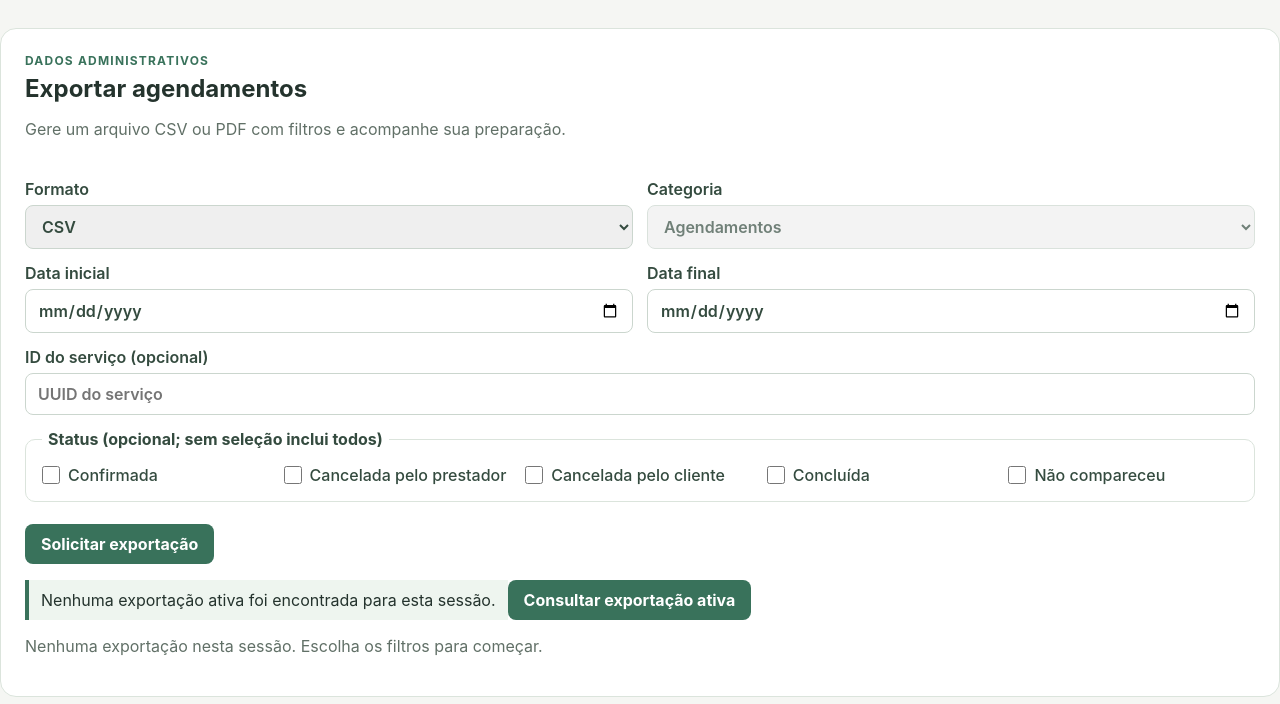
Test: ExportCenter DOM interactions › preserves the original intent after transport failure and retries with the same key
This screenshot has width=1280, height=704.
Type "2026-10-01" into the date field labelled "Data inicial" at (329, 311), box [25,289,633,333]
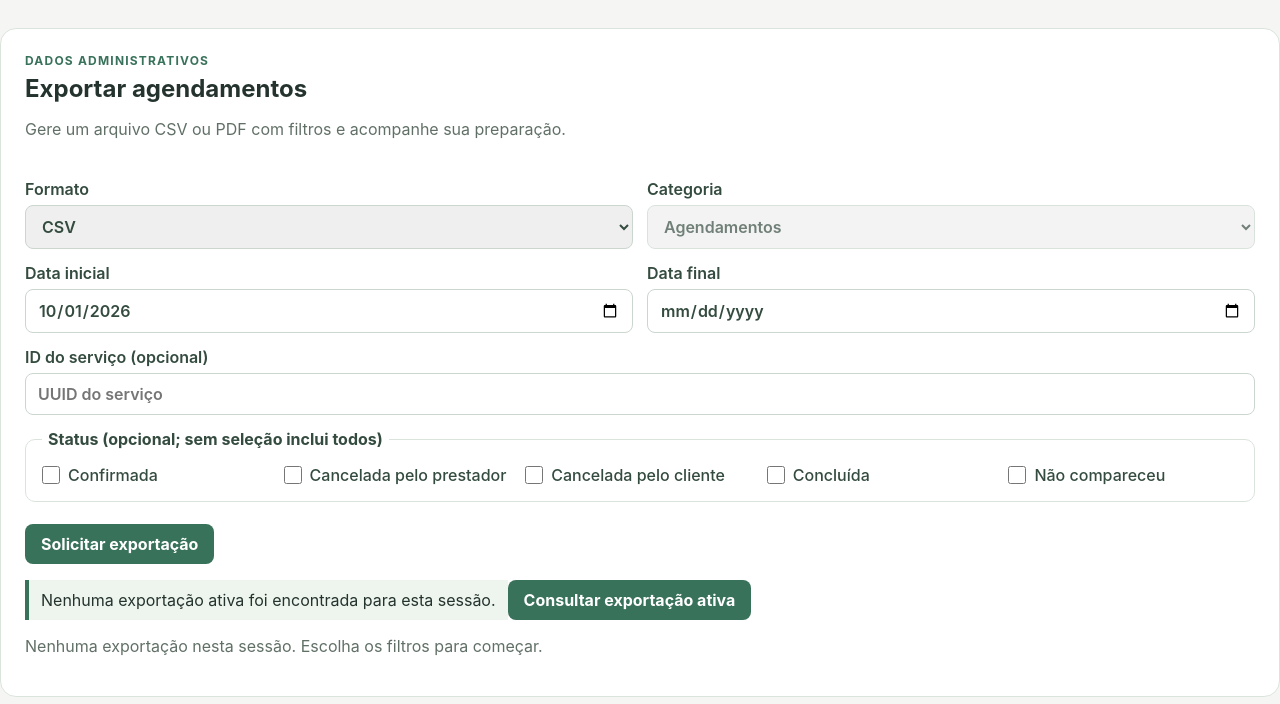
Type "2026-10-23" into the date field labelled "Data final" at (951, 311), box [647,289,1255,333]
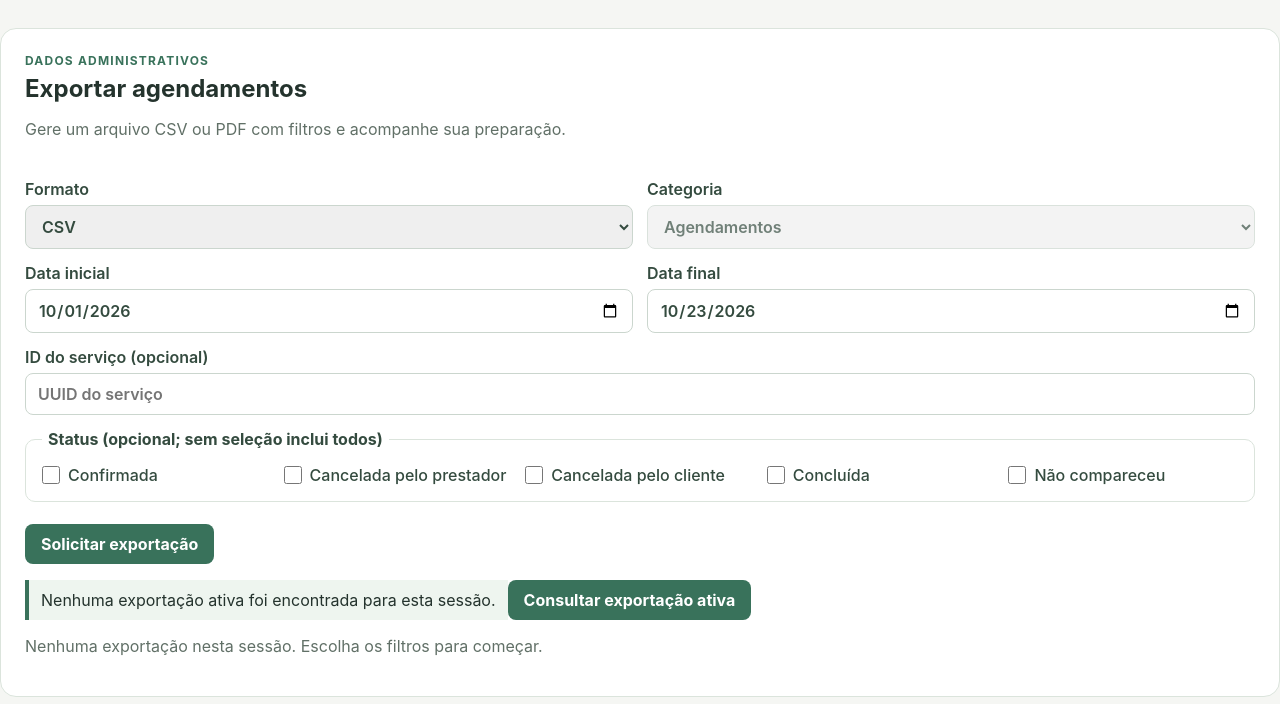
Click the button "Solicitar exportação" at (120, 544), box [25,524,214,564]
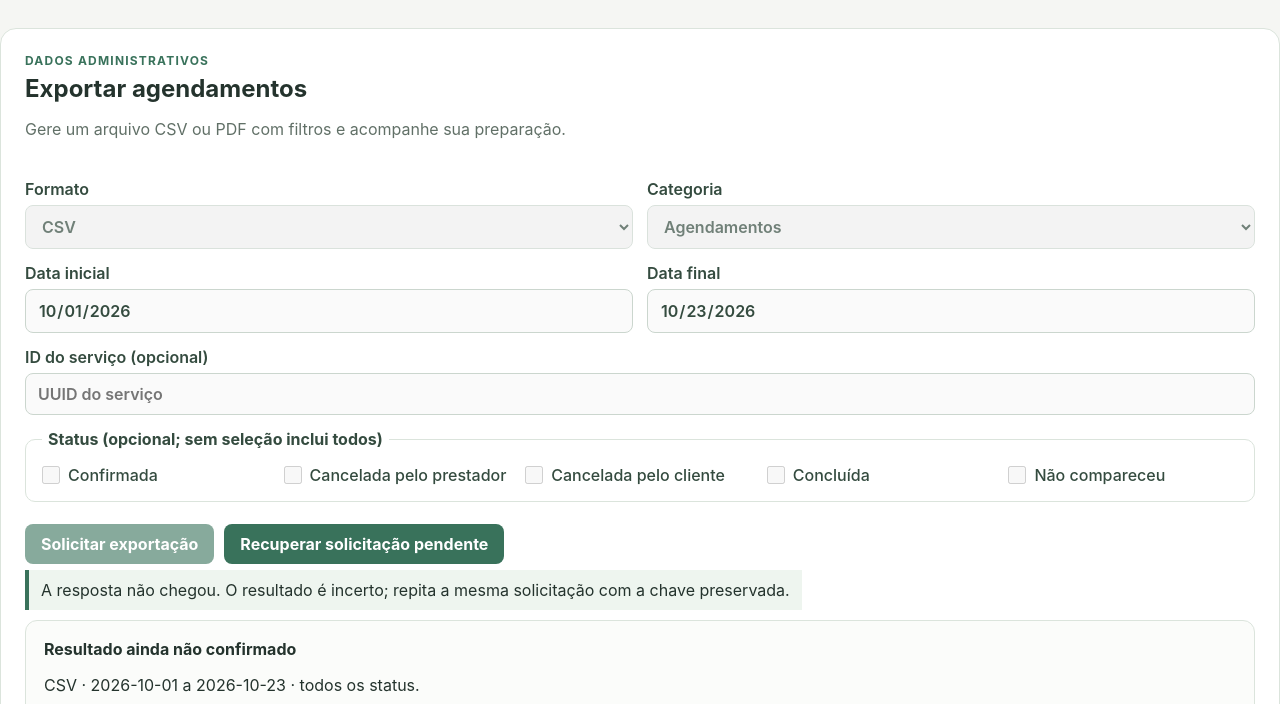
Click the button "Recuperar solicitação pendente" at (364, 544), box [224,524,504,564]
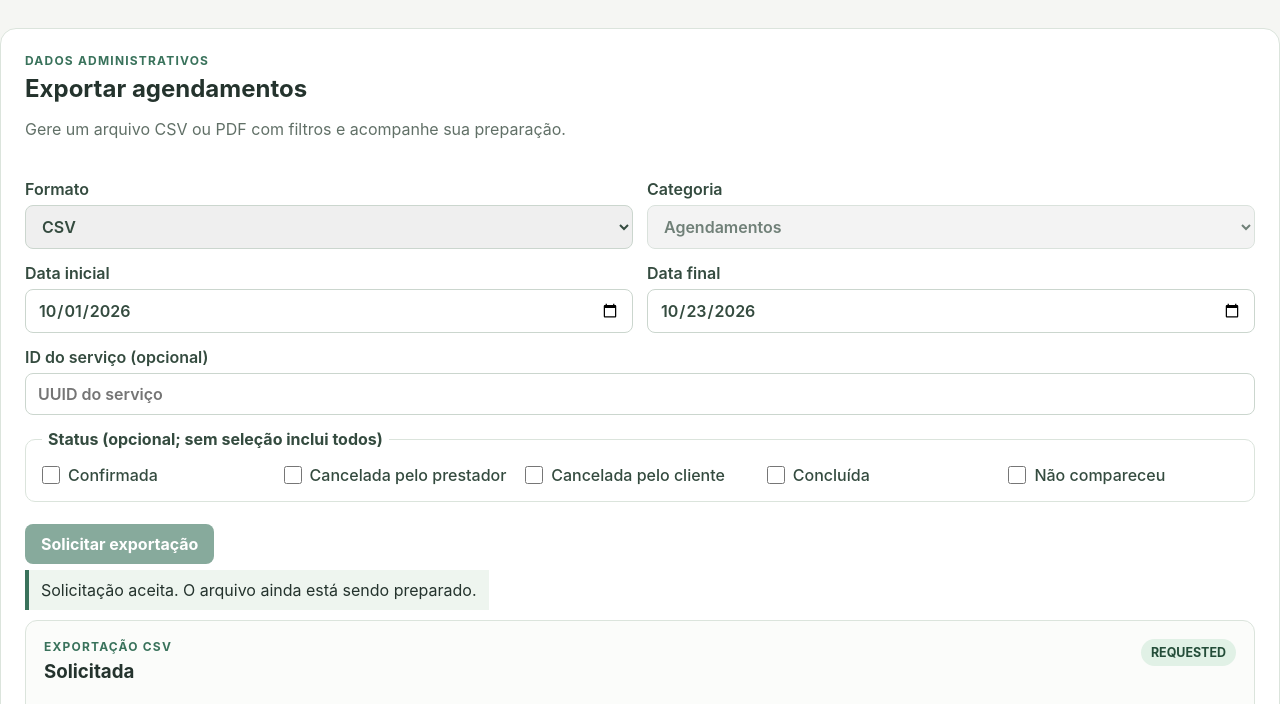
Expected: the text "Resultado ainda não confirmado" is gone
